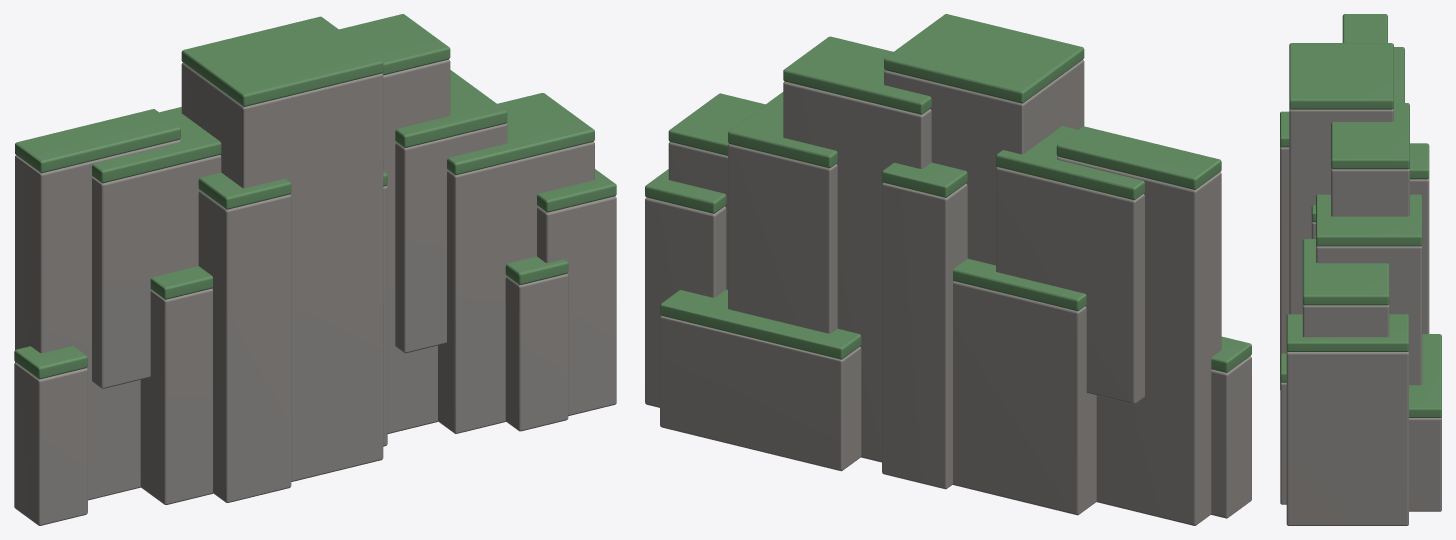
Rendered from Cliff_003.fbx.
The picture shows the model from 3 angles, left to right: view 1: azimuth 30°, elevation 25°; view 2: azimuth 150°, elevation 25°; view 3: azimuth 270°, elevation 25°; orthographic projection. The views are drawn at different scales.
Parts seen in each view (by area): view 1: Cliff_003; view 2: Cliff_003; view 3: Cliff_003.
Boxes of the visible parts, x1,y1,x2,y2 form: Cliff_003: (14,14,616,525); Cliff_003: (645,14,1251,525); Cliff_003: (1280,14,1441,525).
Bounding box in the file's own units: 8.64 × 5.89 × 2.6.
